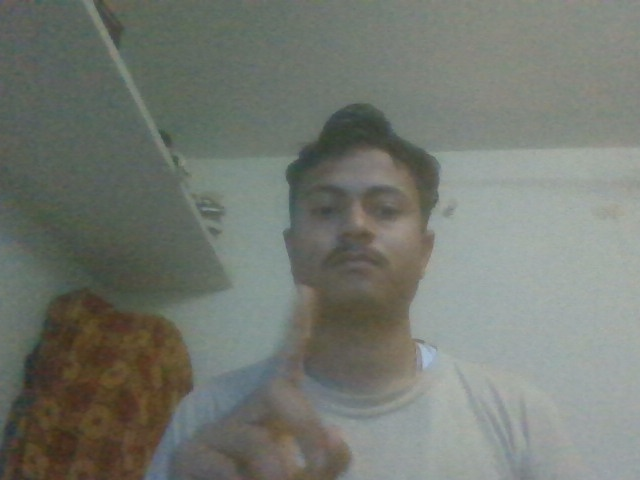No: (182, 279, 354, 480)
